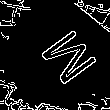M_SW: (23, 21, 92, 88)
